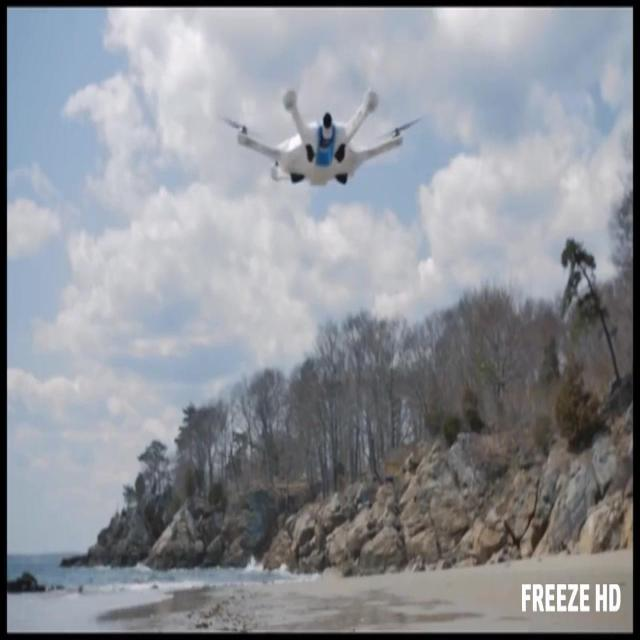drone: (236, 83, 407, 189)
